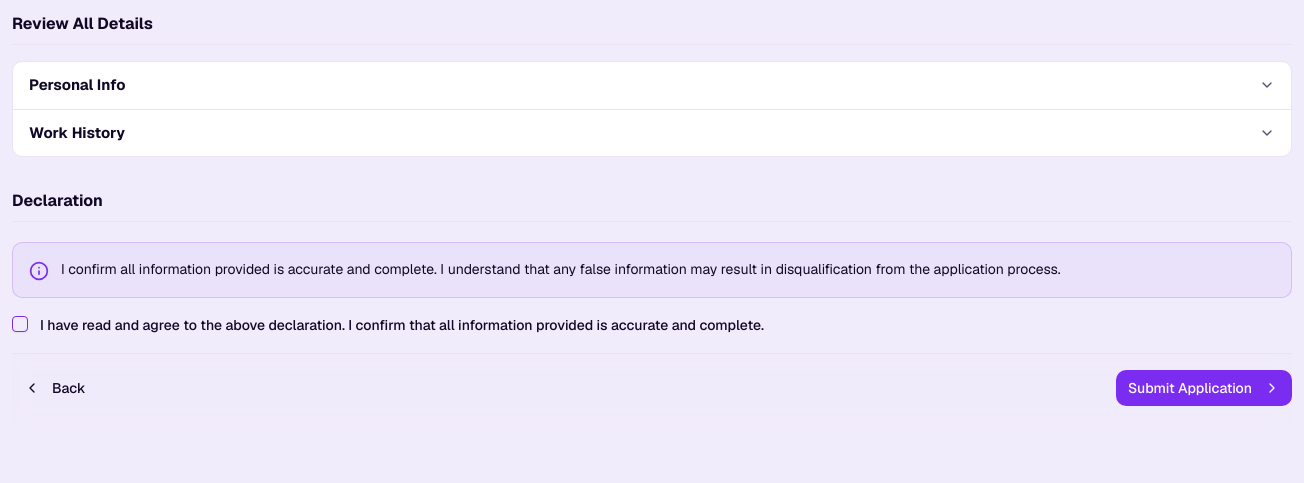
Test: JobApplicationReviewStep › displays custom error message when submission catches a real Error
The width and height of the screenshot is (1304, 483).
Step 1. Click the checkbox → coordinates (20, 324), box x1=12 y1=316 x2=28 y2=332
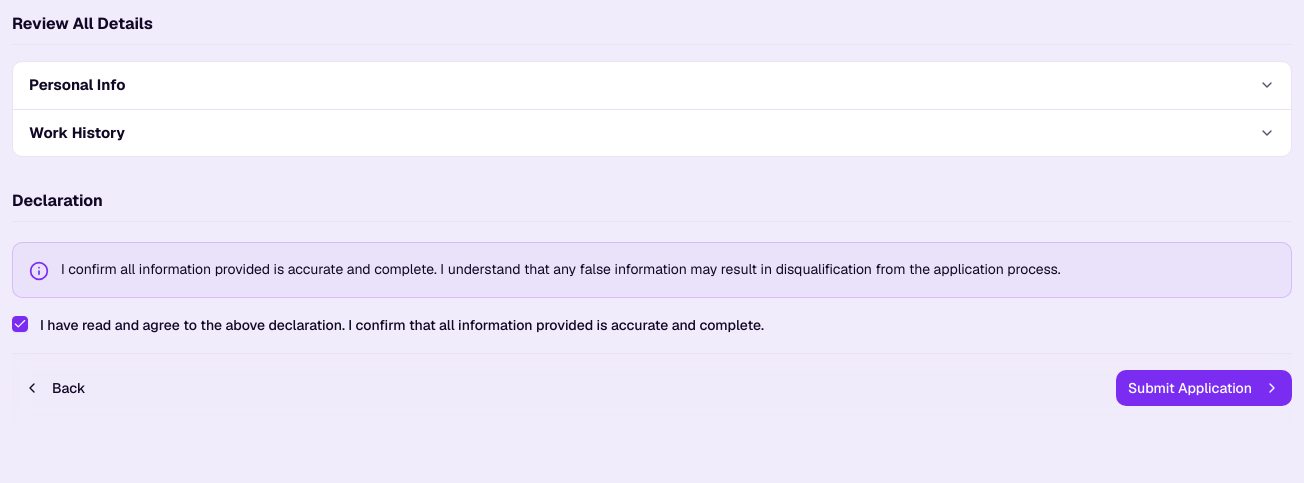
Step 2. Click the button "Submit Application" → coordinates (1204, 388), box x1=1116 y1=370 x2=1292 y2=406
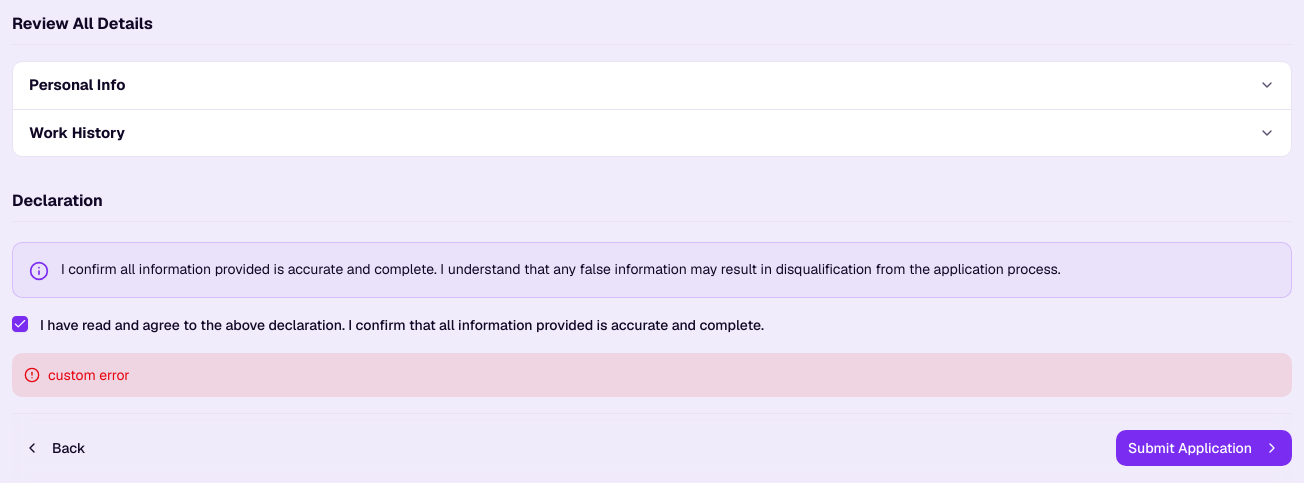
Check: the text "custom error" is shown, box x1=12 y1=353 x2=1292 y2=397
